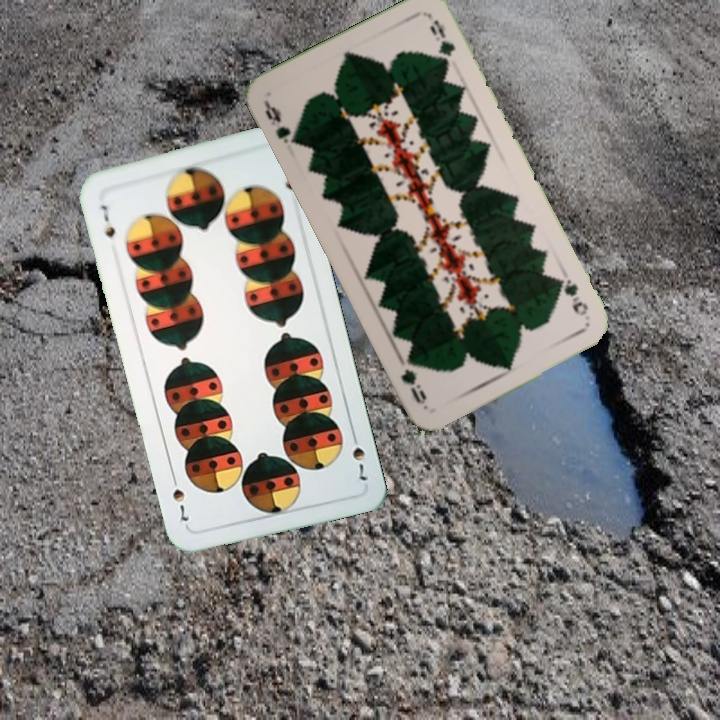G9: (260, 97, 304, 148), (552, 274, 591, 319)
S7: (348, 427, 370, 484), (96, 200, 118, 240)
